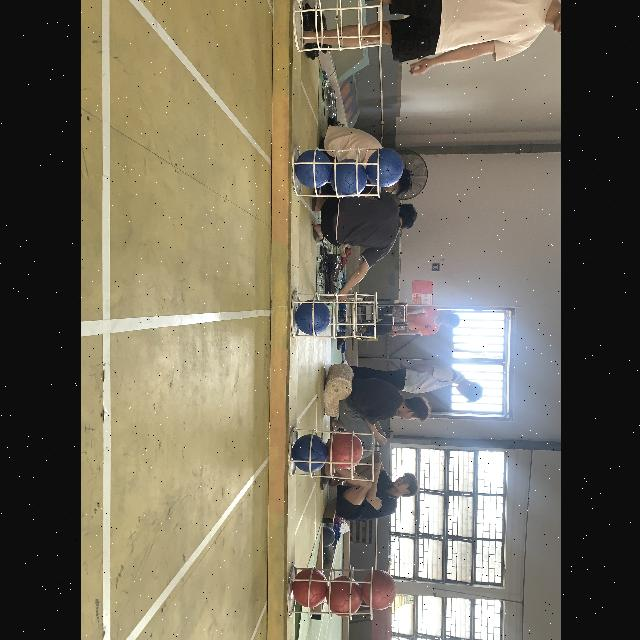B: (366, 148, 402, 188), (330, 158, 366, 198), (295, 150, 331, 188), (290, 436, 328, 470), (293, 300, 329, 334)
R: (326, 576, 360, 618), (361, 569, 395, 609), (292, 568, 326, 608), (329, 433, 361, 469)
